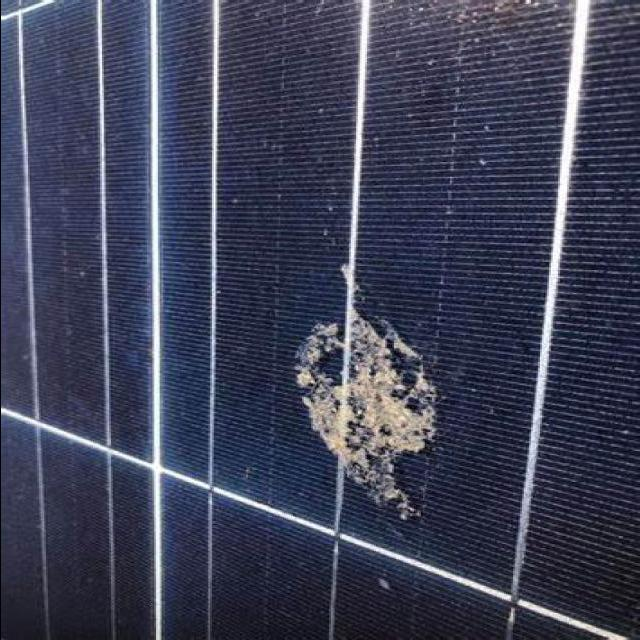soiled: (222, 8, 542, 587)
